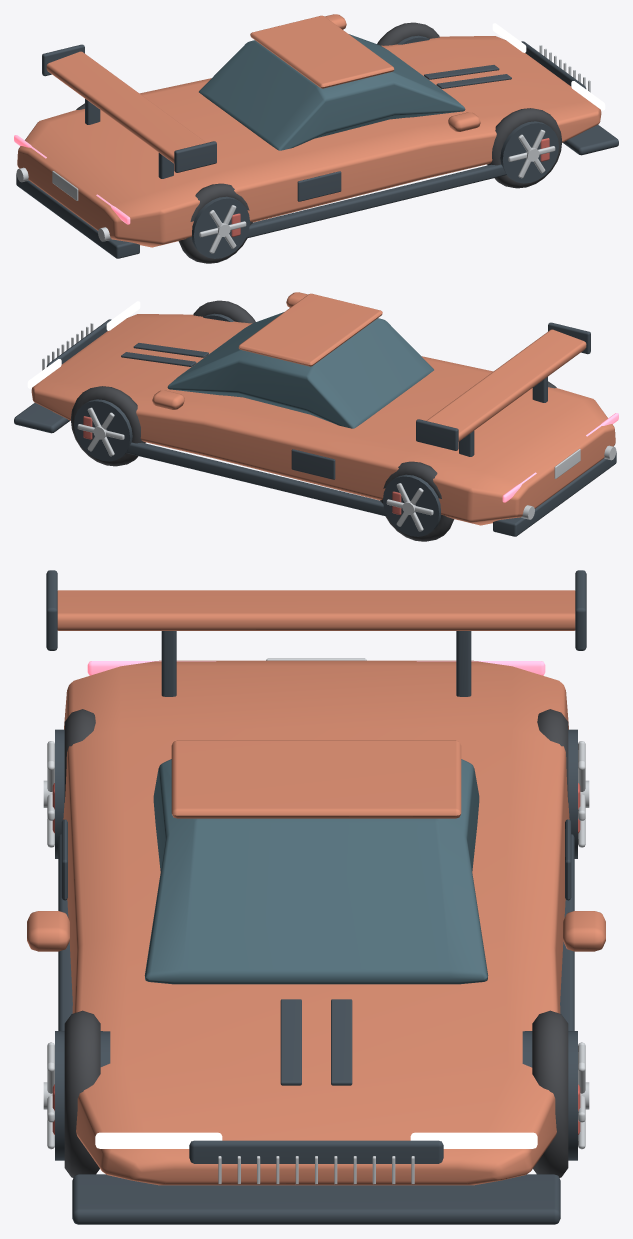
Rendered from SM_sup_track.glb.
3 views of the same model, one above another, from view 1: azimuth 30°, elevation 25°; view 2: azimuth 150°, elevation 25°; view 3: azimuth 270°, elevation 25° (orthographic). The views are drawn at different scales.
Visible parts, largest first — view 1: SM_sup_track; view 2: SM_sup_track; view 3: SM_sup_track.
Boxes of the visible parts, x1,y1,x2,y2 form: SM_sup_track: [14, 14, 618, 263]; SM_sup_track: [14, 292, 618, 541]; SM_sup_track: [27, 570, 605, 1224].
Bounding box in the file's own units: 4.5 × 1.1 × 2.23.
